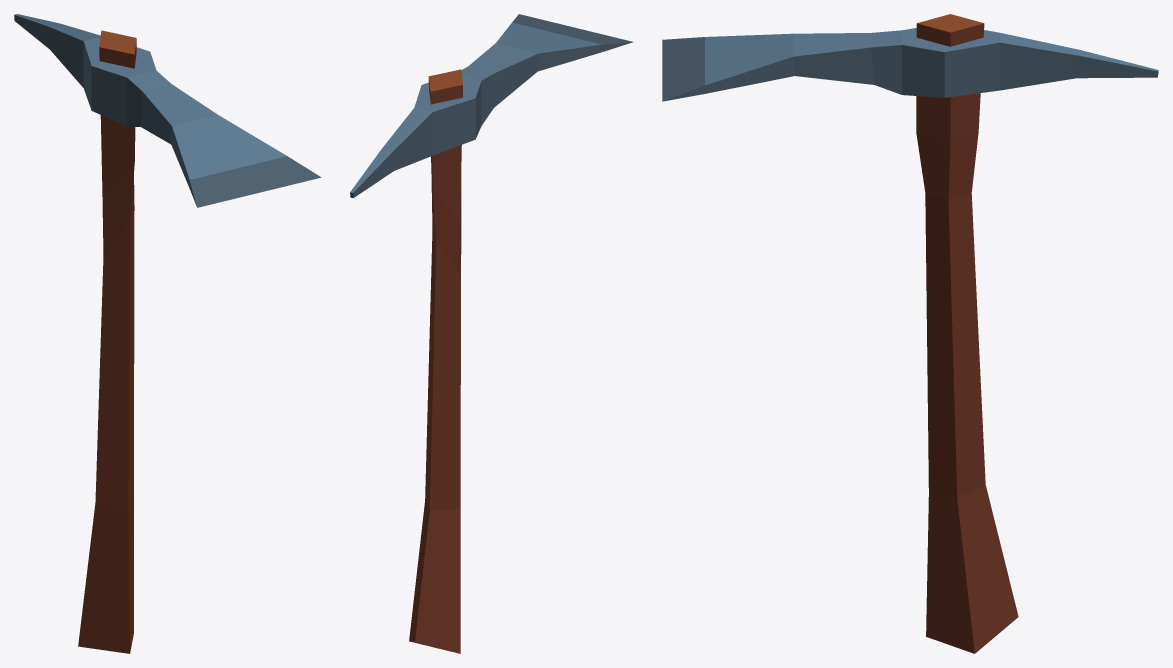
Rendered from SM_PickAxe_A.fbx.
3 renders of one model, left to right at view 1: azimuth 30°, elevation 25°; view 2: azimuth 150°, elevation 25°; view 3: azimuth 270°, elevation 25°, orthographic. The views are drawn at different scales.
Visible parts, largest first — view 1: SM_Pickaxe_A; view 2: SM_Pickaxe_A; view 3: SM_Pickaxe_A.
Boxes of the visible parts, x1,y1,x2,y2 form: SM_Pickaxe_A: (14,14,321,653); SM_Pickaxe_A: (350,14,633,653); SM_Pickaxe_A: (662,14,1158,653).
Size of the model in its own units: 0.2347 by 1.09 by 0.7955.
